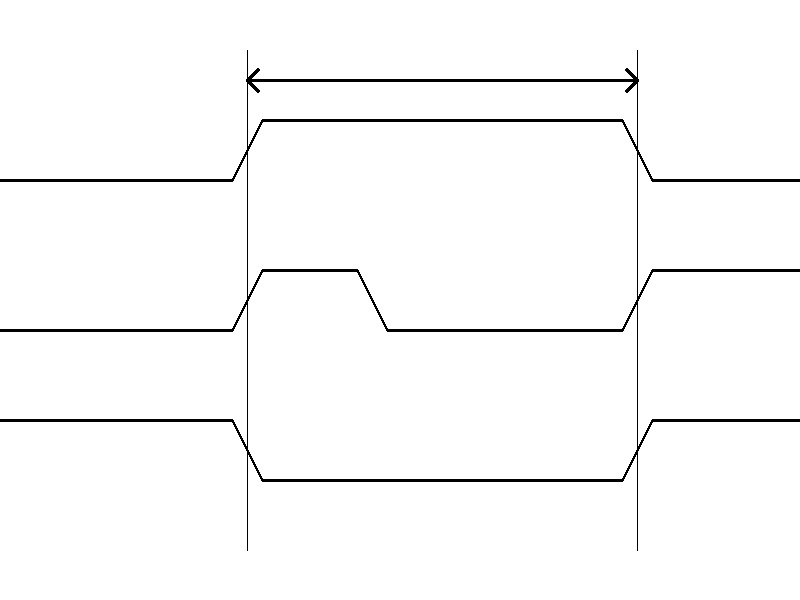double_arrow: (247, 65, 637, 95)
